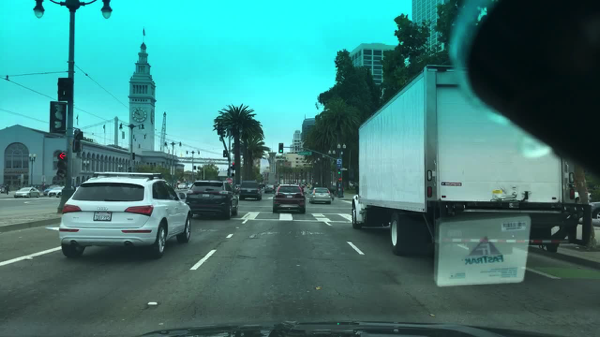car: (59, 172, 191, 258), (185, 180, 236, 220), (272, 184, 305, 214), (238, 181, 261, 202), (309, 187, 331, 204), (13, 187, 40, 198), (48, 187, 65, 198), (590, 201, 599, 221), (43, 185, 56, 196), (265, 184, 274, 193), (234, 184, 241, 195), (176, 183, 187, 190), (186, 182, 193, 189)
person: (5, 183, 10, 195)
traffic light: (49, 102, 68, 135), (57, 78, 73, 103), (56, 151, 66, 176), (221, 150, 228, 158), (279, 143, 284, 154), (337, 176, 342, 183), (230, 162, 235, 169), (337, 167, 341, 175)
traffic sign: (297, 150, 312, 155), (335, 158, 342, 166), (226, 177, 233, 184)
truck: (346, 64, 592, 258)
